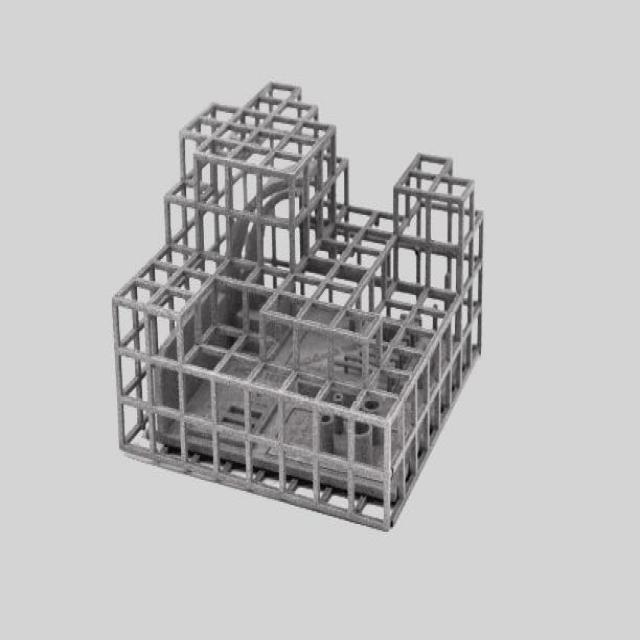Without deffect: (113, 62, 488, 543)
